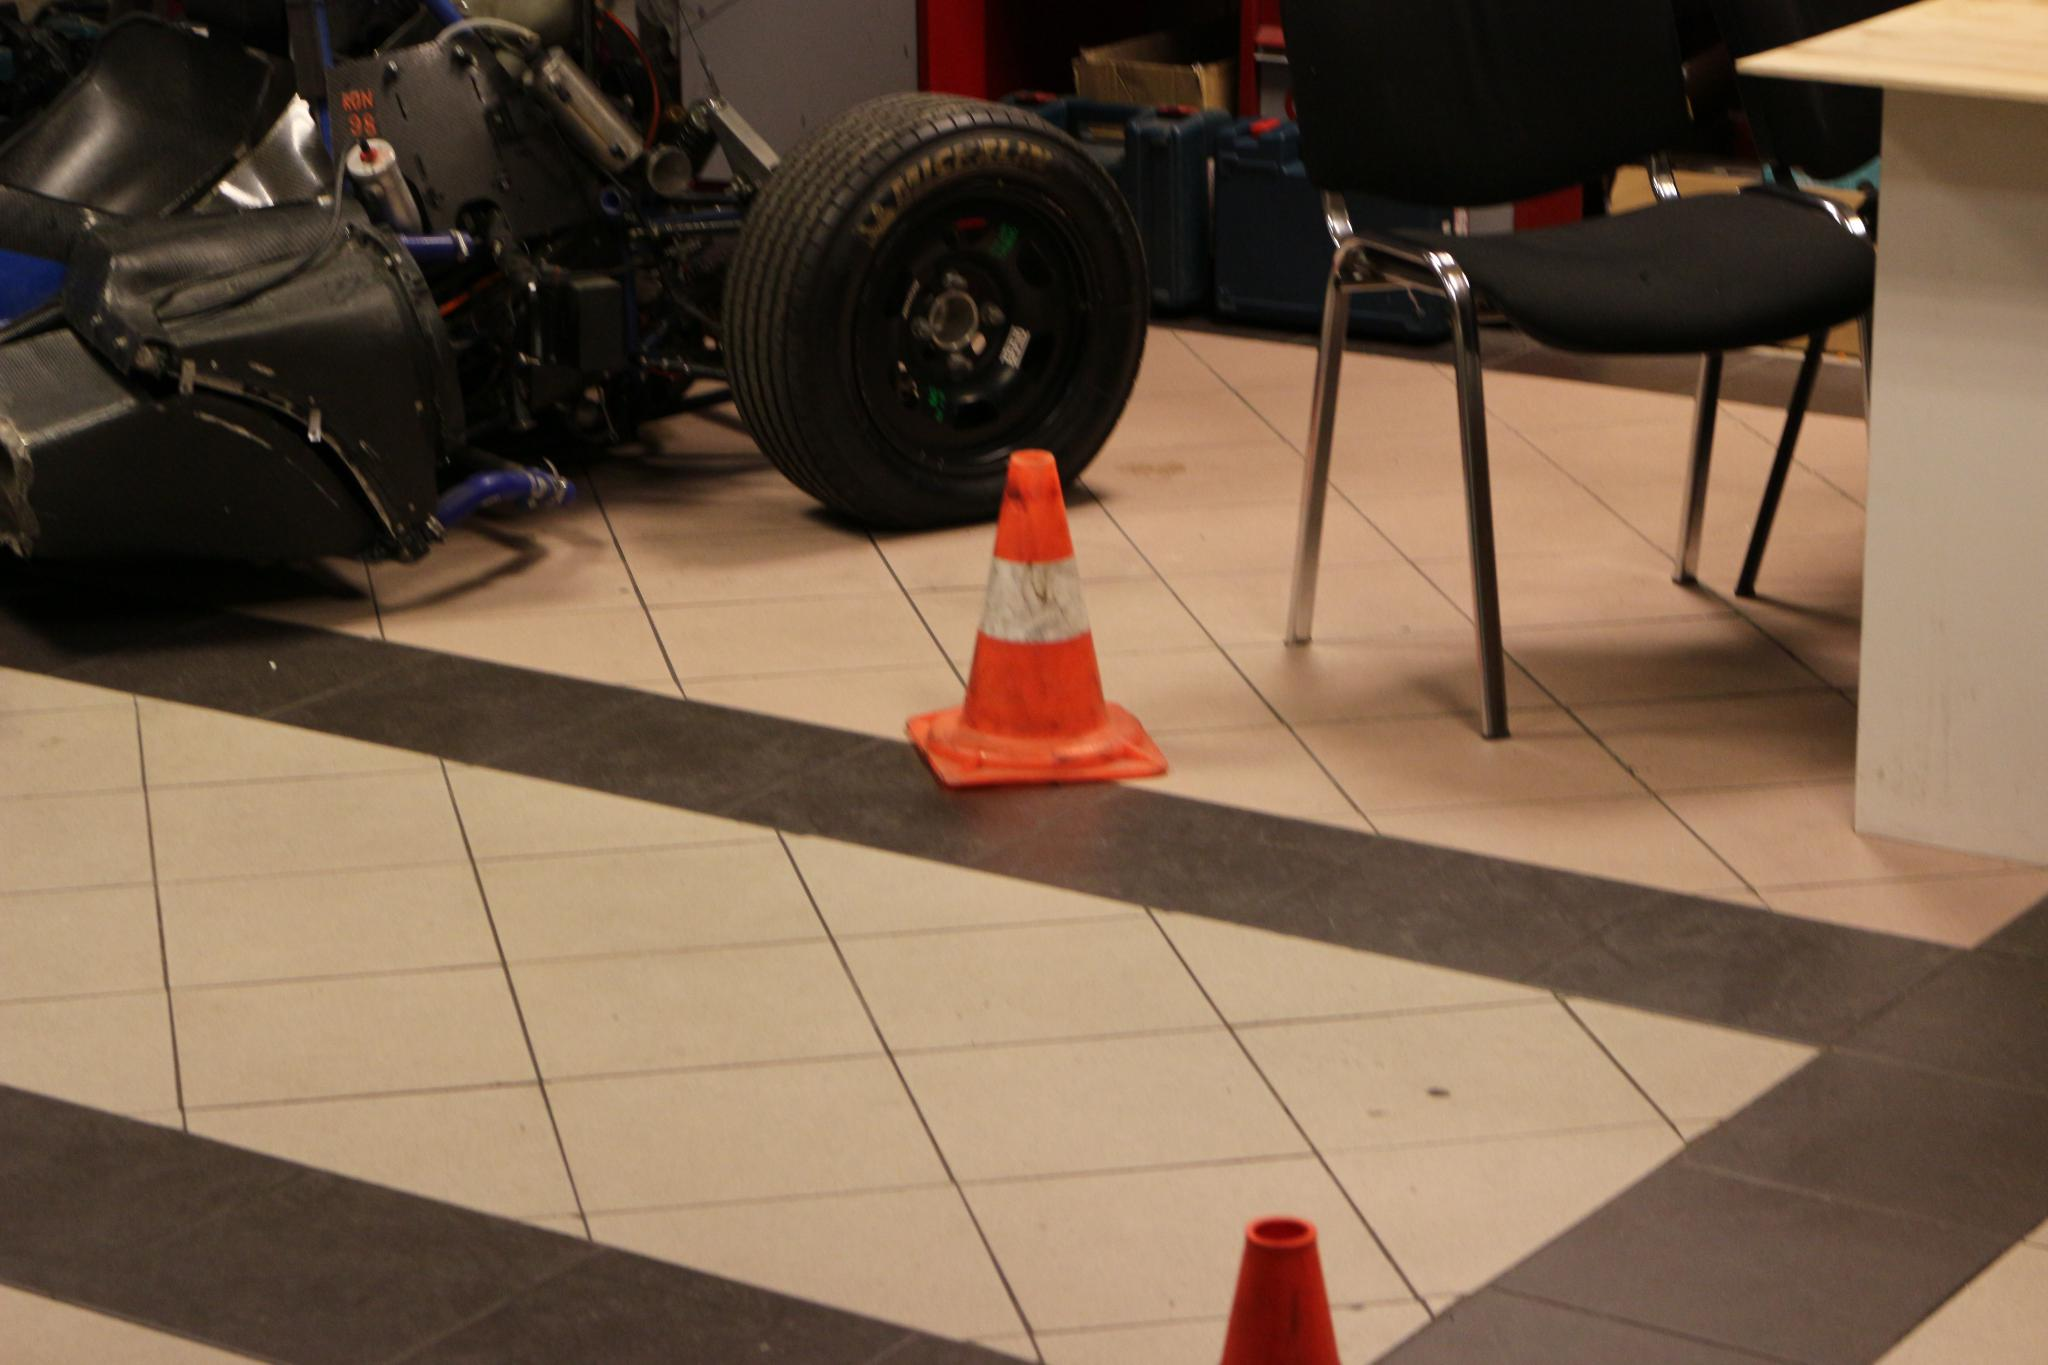Orange_Cone: (906, 440, 1180, 791), (1186, 1200, 1360, 1363)
